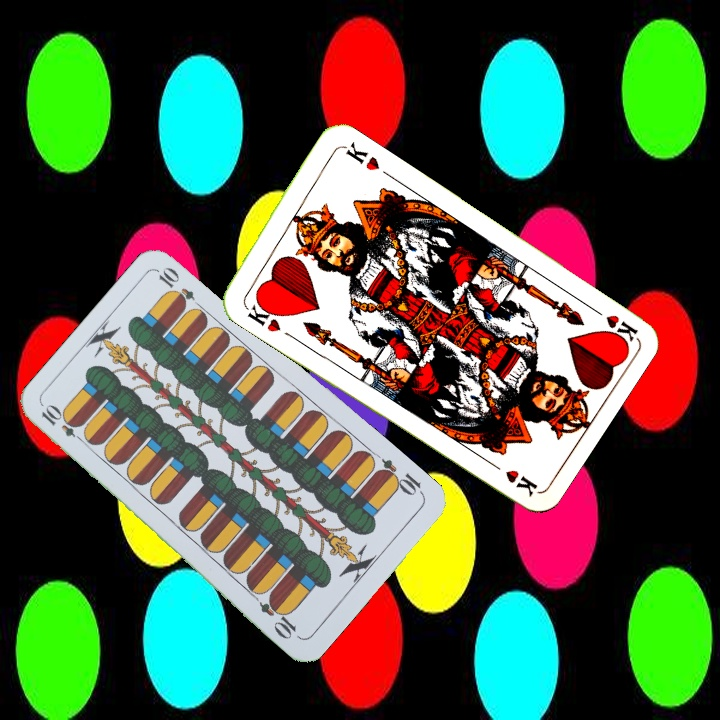E10: (372, 455, 427, 499), (37, 401, 89, 447)
HK: (584, 301, 640, 347), (239, 295, 285, 335)
